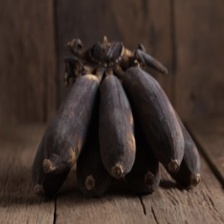banana: (43, 13, 191, 206)
